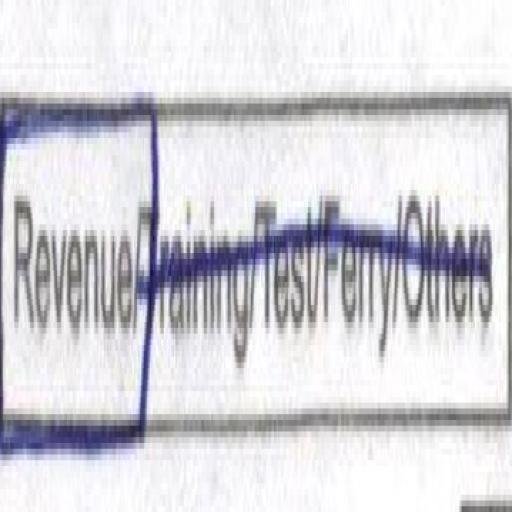check: (0, 30, 161, 493)
